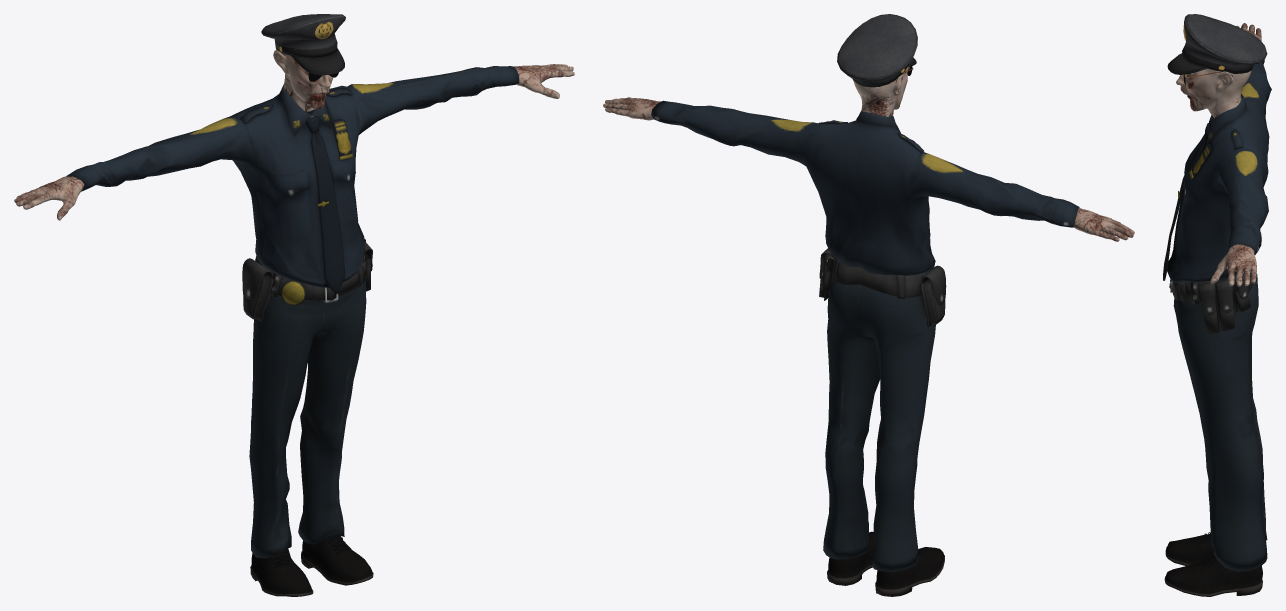
File: policeman male.obj
3 views of the same model, side by side, from view 1: azimuth 30°, elevation 25°; view 2: azimuth 150°, elevation 25°; view 3: azimuth 270°, elevation 25° (orthographic). The views are drawn at different scales.
Parts seen in each view (by area): view 1: Tops, Bottoms, Body, Shoes, Hats; view 2: Bottoms, Tops, Hats, Body, Shoes; view 3: Bottoms, Tops, Hats, Shoes, Body.
Part boxes in pixels (<box>): Tops: <box>66,66,519,294</box>; Bottoms: <box>242,239,372,558</box>; Body: <box>14,50,574,220</box>; Shoes: <box>250,536,373,596</box>; Hats: <box>261,14,345,75</box>; Bottoms: <box>819,248,946,572</box>; Tops: <box>651,100,1079,275</box>; Hats: <box>837,14,917,87</box>; Body: <box>603,66,1134,241</box>; Shoes: <box>827,531,944,596</box>; Bottoms: <box>1169,272,1267,571</box>; Tops: <box>1163,60,1271,282</box>; Hats: <box>1167,14,1267,74</box>; Shoes: <box>1164,532,1262,596</box>; Body: <box>1176,23,1261,286</box>.
Size of the model in its own units: 187 by 184 by 32.66.
Materials: 1 (1 with a texture image).
